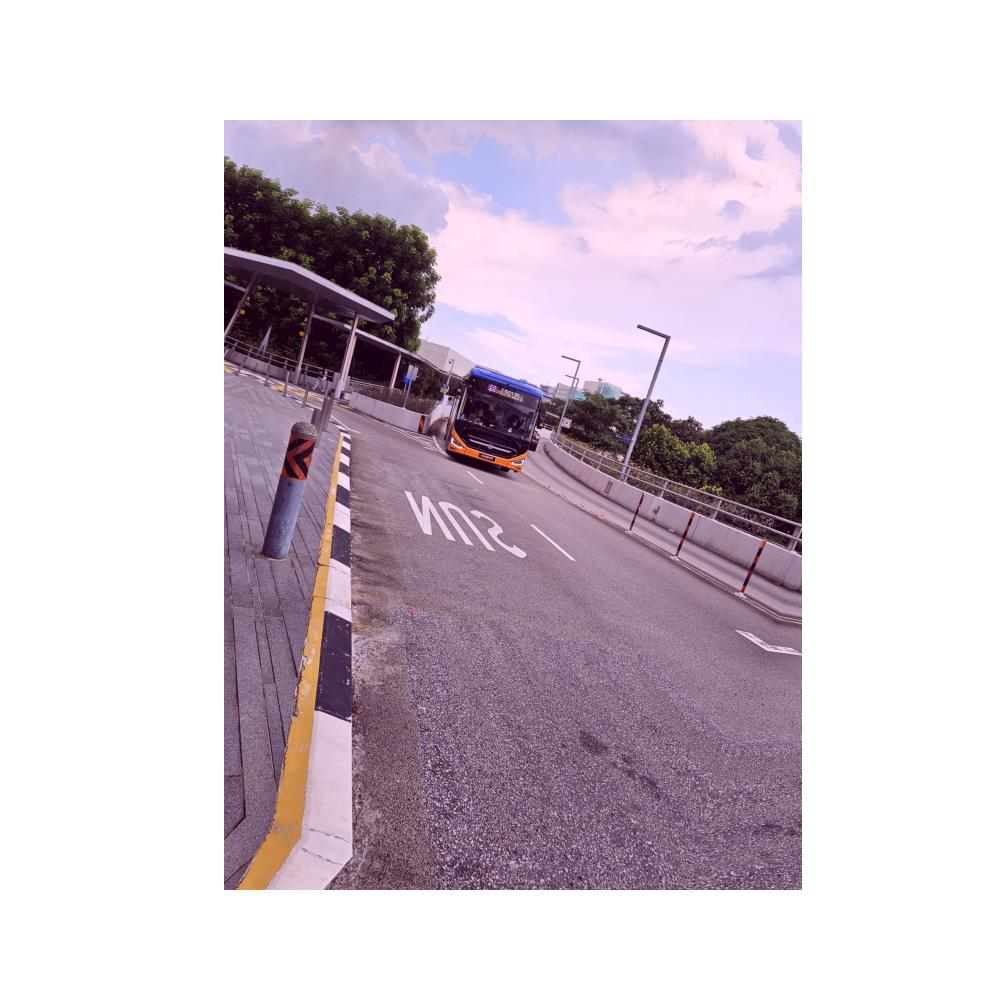bus: (438, 355, 545, 478)
